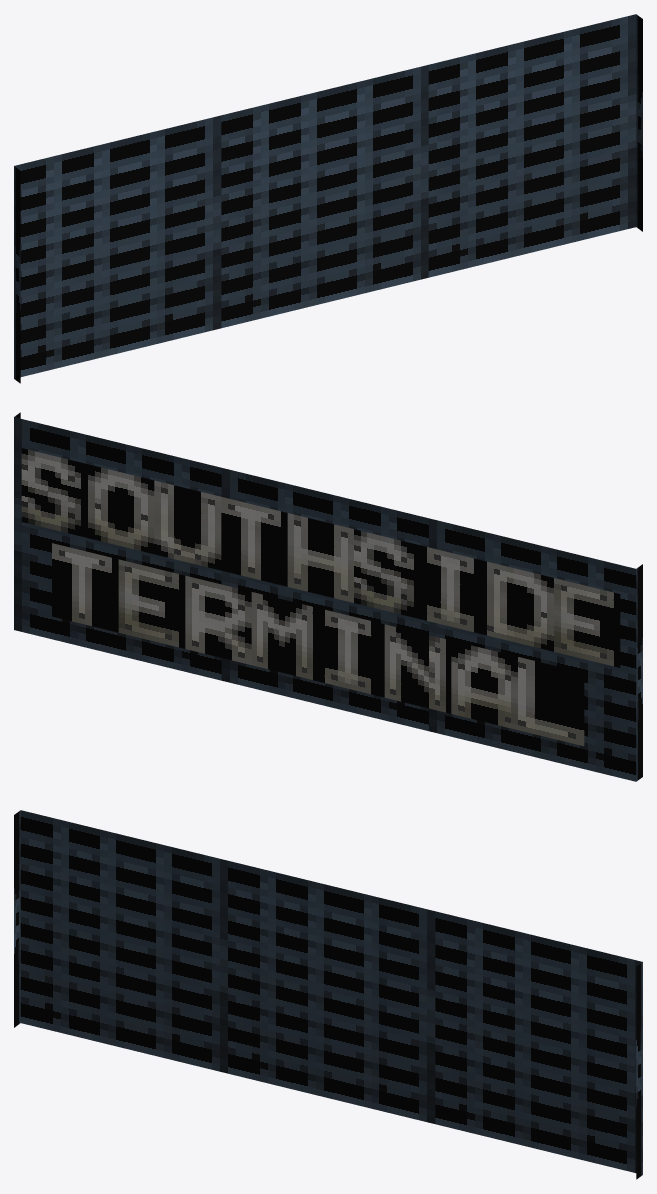
3 renders of one model, top to bottom at view 1: azimuth 30°, elevation 25°; view 2: azimuth 150°, elevation 25°; view 3: azimuth 330°, elevation 25°, orthographic.
Parts seen in each view (by area): view 1: prim045-railsign1; view 2: prim045-railsign1; view 3: prim045-railsign1.
Part boxes in pixels (x1,y1,x2,y2): prim045-railsign1: (14,14,642,383); prim045-railsign1: (14,412,642,781); prim045-railsign1: (14,810,642,1179).
Bounding box in the file's own units: 1330 × 435 × 37.
3 materials, 3 textured.
